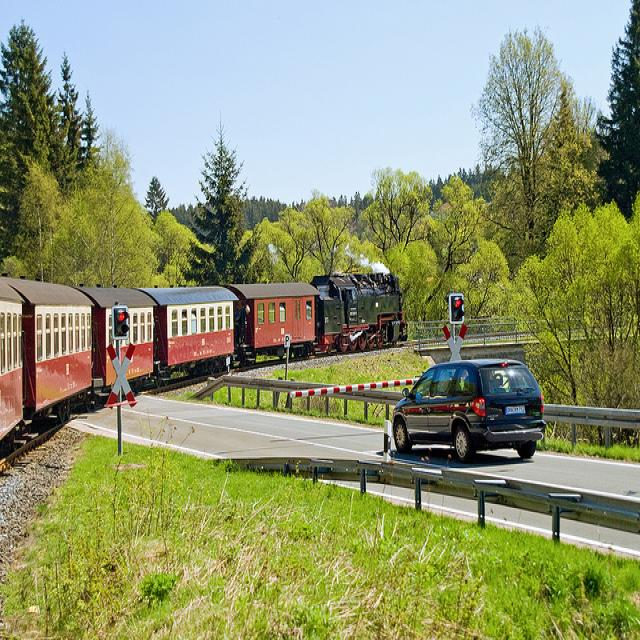Vehicle: (392, 356, 547, 466)
